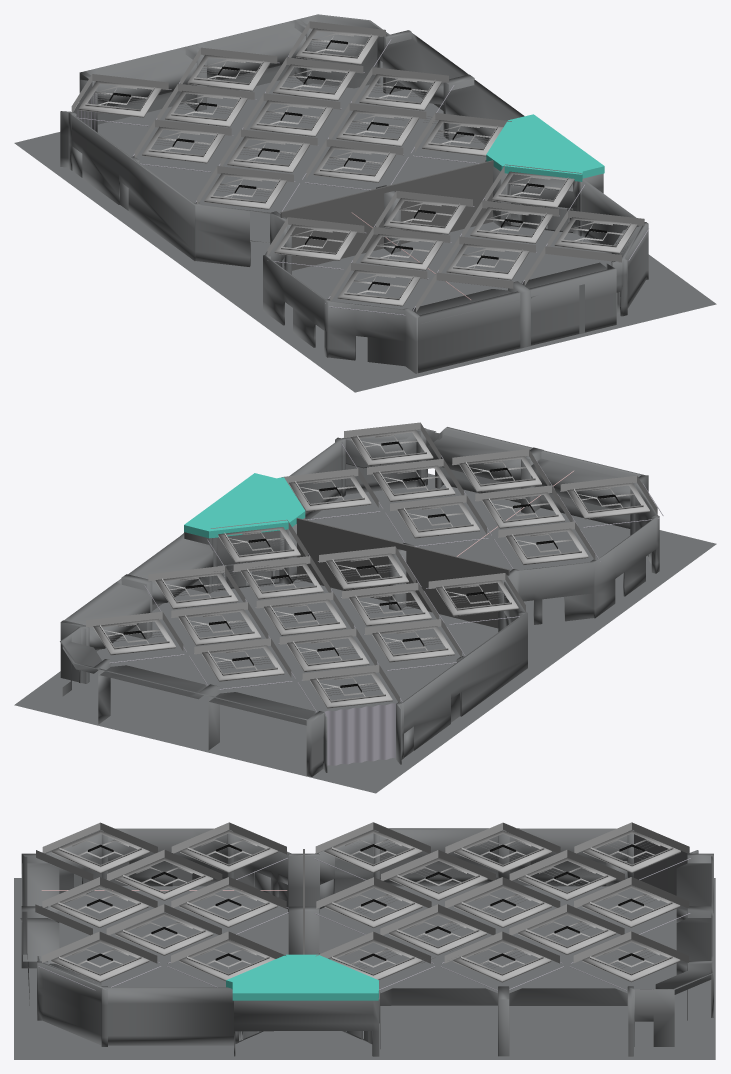
File: Fleming-Whittle.glb
3 views of the same model, one above another, from view 1: azimuth 30°, elevation 25°; view 2: azimuth 150°, elevation 25°; view 3: azimuth 270°, elevation 25° (orthographic). The views are drawn at different scales.
Visible parts, largest first — view 1: Main_walls, floor, Object011, Box050, Object012, Line04, Ceiling_section020, Ceiling_section007, Ceiling_section008, Ceiling_section017, Ceiling_section005, Ceiling_section022 (+15 smaller); view 2: floor, Main_walls, Object011, Box050, Object012, Line04, Line006, Ceiling_section011, Ceiling_section016, Ceiling_section008, Ceiling_section010, Ceiling_section017 (+16 smaller); view 3: floor, Main_walls, Object011, Object012, Line04, Ceiling_section020, Ceiling_section016, Ceiling_section019, Ceiling_section006, Ceiling_section021, Ceiling_section012, Ceiling_section017 (+14 smaller).
Boxes of the visible parts, x1,y1,x2,y2 form: Main_walls: (60, 14, 648, 373); floor: (14, 60, 716, 392); Object011: (71, 21, 511, 204); Box050: (280, 160, 493, 270); Object012: (267, 164, 644, 311); Line04: (486, 114, 604, 181); Ceiling_section020: (470, 207, 552, 243); Ceiling_section007: (250, 100, 332, 136); Ceiling_section008: (273, 64, 355, 100); Ceiling_section017: (337, 270, 420, 306); Ceiling_section005: (204, 173, 286, 209); Ceiling_section022: (554, 217, 637, 253); floor: (14, 473, 716, 793); Main_walls: (60, 427, 659, 776); Object011: (86, 519, 525, 703); Box050: (296, 518, 509, 628); Object012: (281, 422, 657, 559); Line04: (184, 473, 305, 538); Line006: (324, 703, 396, 765); Ceiling_section011: (241, 563, 323, 599); Ceiling_section016: (482, 492, 564, 528); Ceiling_section008: (178, 609, 261, 645); Ceiling_section010: (326, 553, 408, 589); Ceiling_section017: (567, 482, 649, 519); floor: (14, 878, 715, 1059); Main_walls: (20, 828, 713, 1056); Object011: (315, 822, 689, 963); Object012: (35, 822, 286, 963); Line04: (226, 954, 378, 1000); Ceiling_section020: (115, 912, 213, 955); Ceiling_section016: (115, 857, 213, 900); Ceiling_section019: (50, 885, 148, 927); Ceiling_section006: (389, 857, 487, 900); Ceiling_section021: (179, 884, 277, 927); Ceiling_section012: (453, 939, 551, 982); Ceiling_section017: (51, 830, 149, 873).
Size of the model in its own units: 32.4 by 5.41 by 52.95.
